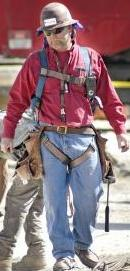boots: (12, 253, 51, 271), (53, 254, 79, 270)
hard-hat: (0, 101, 12, 137)
